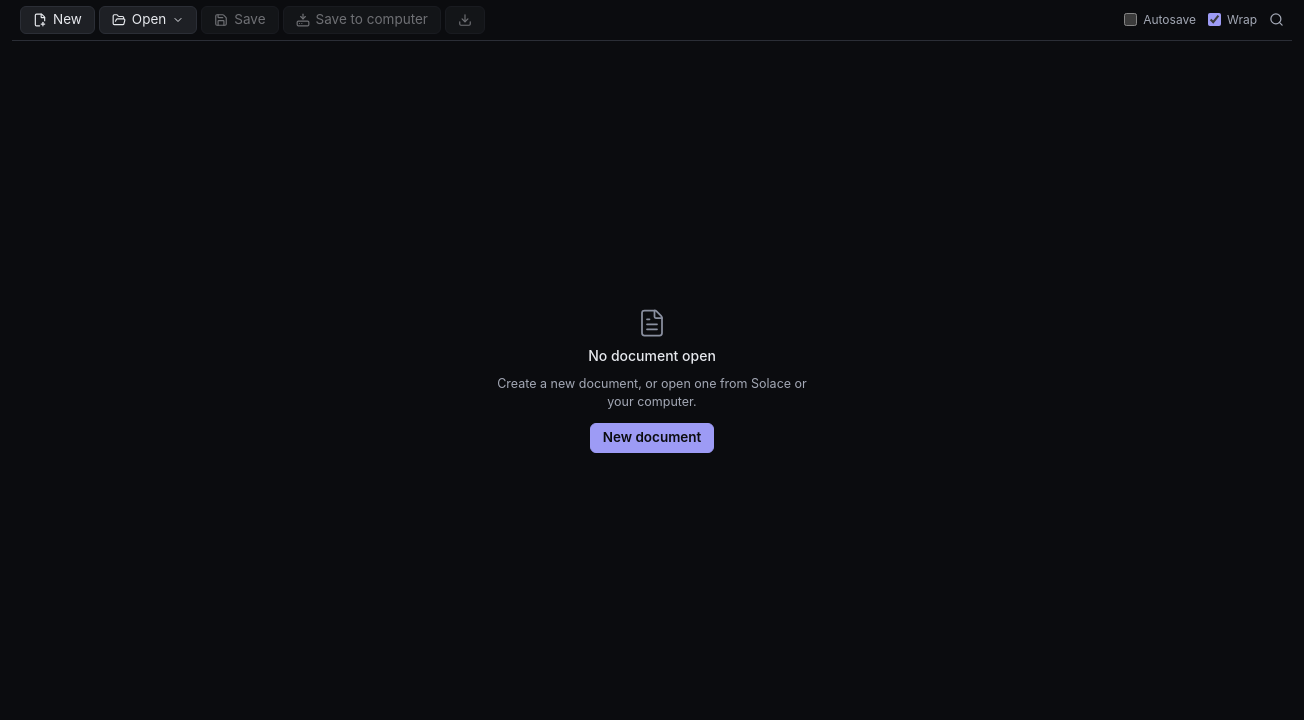
Test: Text Editor › edits text, shows word and character counts, and tracks dirty state
Step 1. Click the button with aria-label "New document" → point(57, 20), box [20, 6, 95, 34]
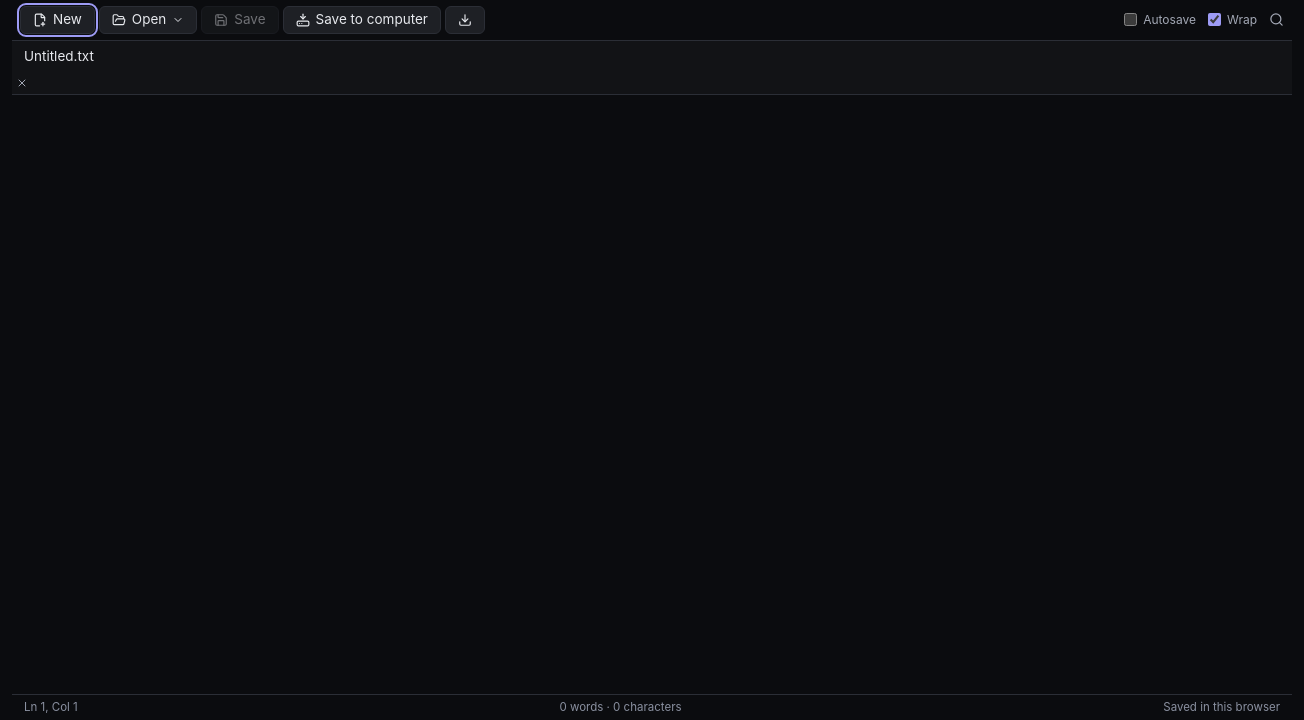
Step 2. Type "hello brave new world" into the text box named "Editing Untitled.txt" → point(652, 395), box [12, 95, 1292, 694]
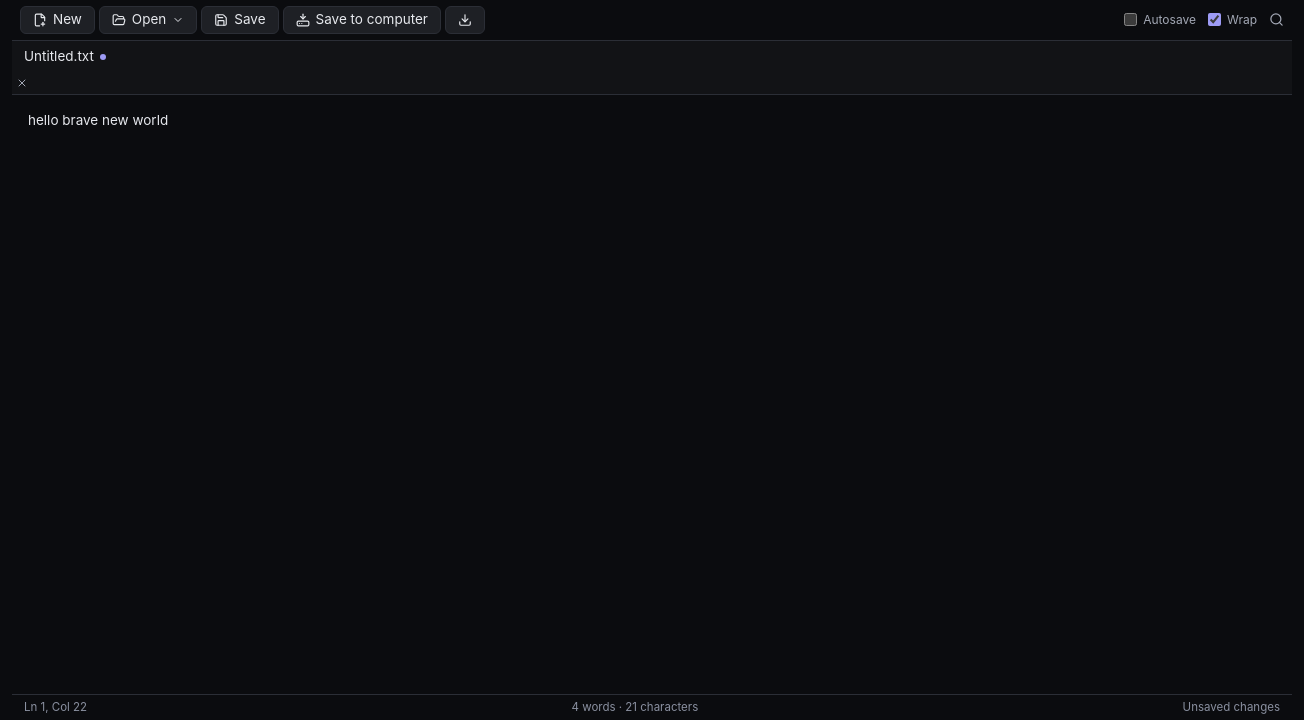
Check: the text "4 words · 21 characters" is shown, box [572, 699, 698, 716]
Check: the element named "Unsaved changes" is shown, box [100, 54, 106, 60]
Check: the text "Unsaved changes" is shown, box [1183, 699, 1280, 716]
